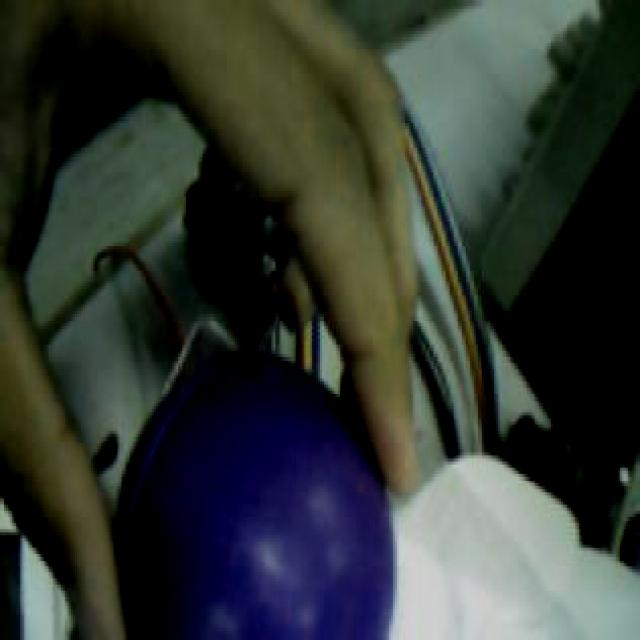BallPurple: (114, 349, 395, 640)
